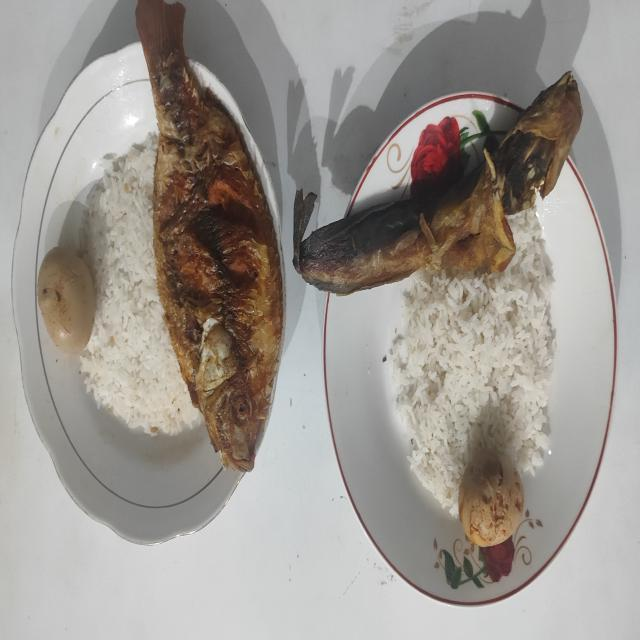ikan_mujair: (136, 0, 283, 471)
nasi_putih: (390, 210, 556, 515), (80, 133, 202, 436)
